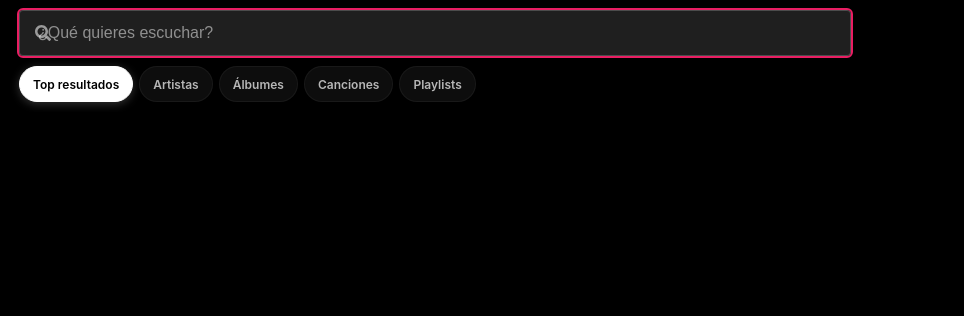
Búsqueda y reproducción esenciales › prioriza coincidencias exactas y elimina resultados duplicados
In the search field named "Buscar música": (435, 33) [19,10,851,56], type "Luz"
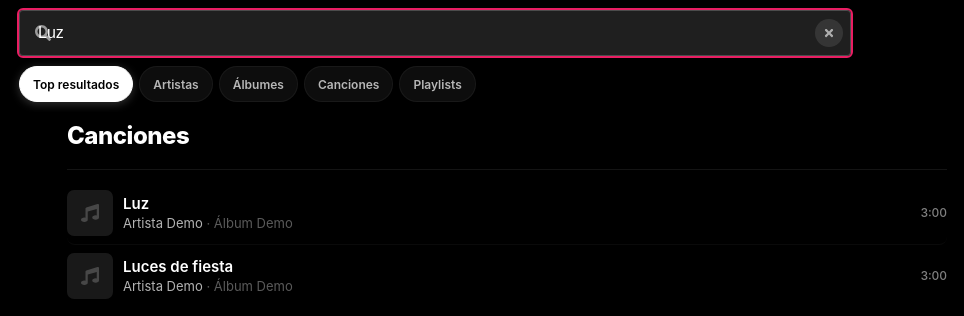
Expected: the text "Luces de fiesta" is shown, [123,257,233,276]
